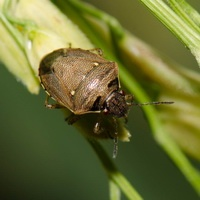insect: (39, 47, 128, 117)
